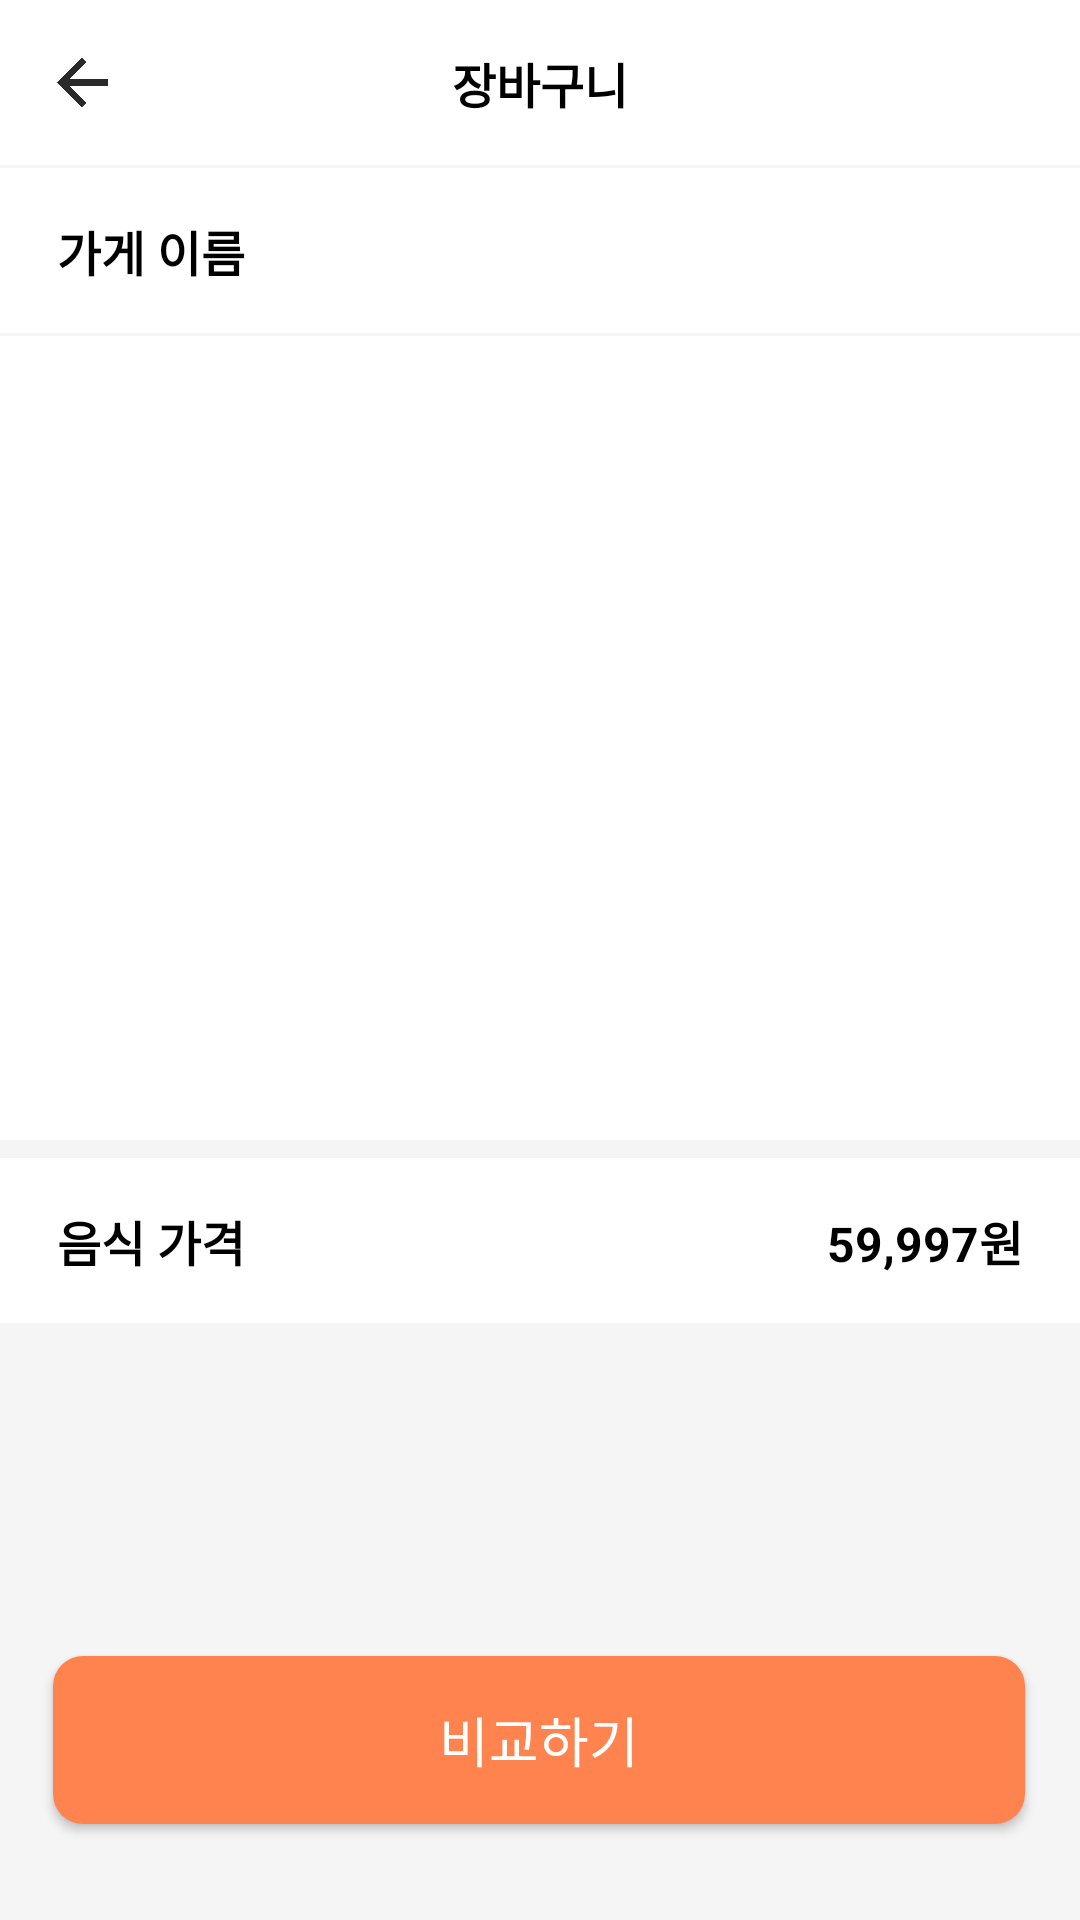

Where icons sit on this 1080px x 1920px app screen, as [x1,y1,x2,y2]:
back hd: [57,58,108,107]
